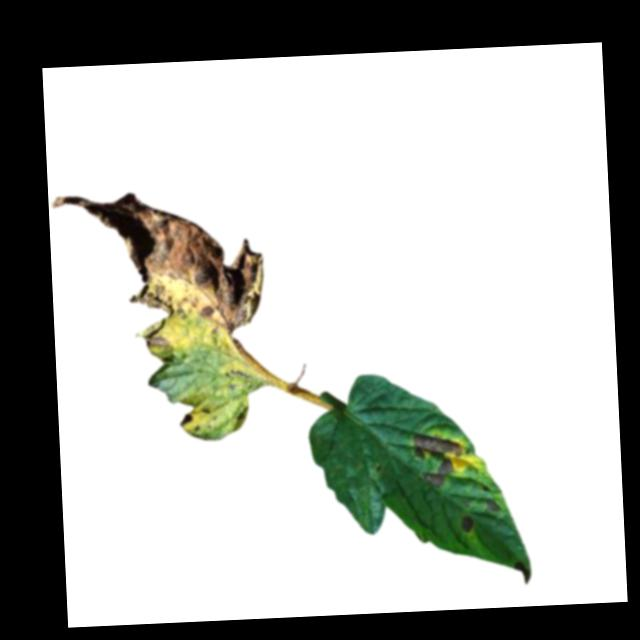Early_blight: (49, 184, 268, 355), (411, 428, 465, 489), (514, 558, 532, 585), (458, 510, 474, 534), (178, 409, 192, 426), (485, 498, 502, 511)
